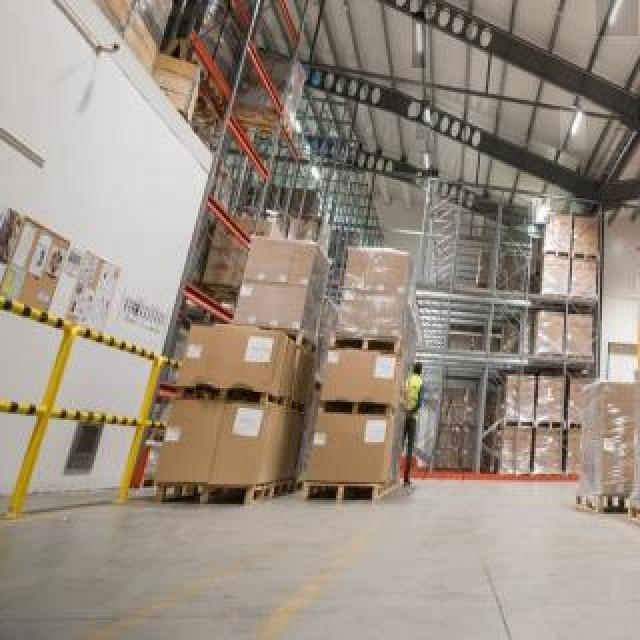fluorescent tube: (400, 8, 433, 68), (598, 0, 636, 38), (565, 96, 591, 151)
